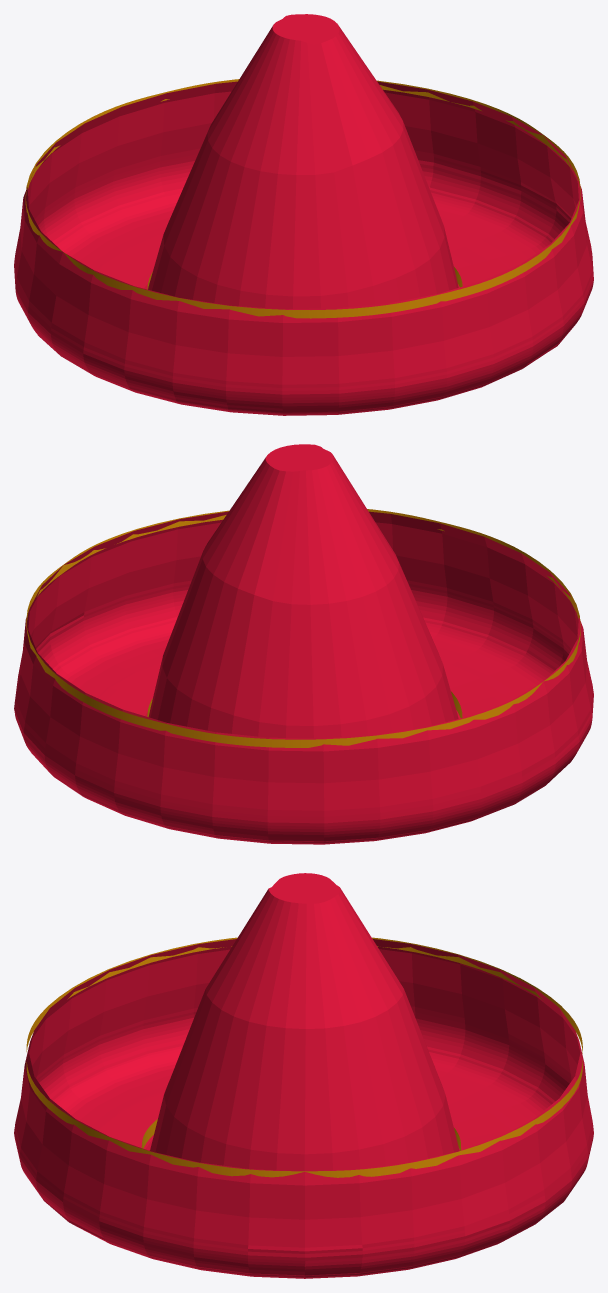
File: sombrero3.glb
3 renders of one model, top to bottom at view 1: azimuth 30°, elevation 25°; view 2: azimuth 150°, elevation 25°; view 3: azimuth 270°, elevation 25°, orthographic.
Parts seen in each view (by area): view 1: Cilindro, Superficie; view 2: Cilindro, Superficie; view 3: Cilindro, Superficie.
Boxes of the visible parts, x1,y1,x2,y2 form: Cilindro: [14, 14, 593, 415]; Superficie: [25, 79, 580, 318]; Cilindro: [14, 444, 593, 844]; Superficie: [26, 509, 580, 747]; Cilindro: [14, 873, 593, 1278]; Superficie: [26, 937, 582, 1177].
Size of the model in its own units: 4 by 2.11 by 3.94.
